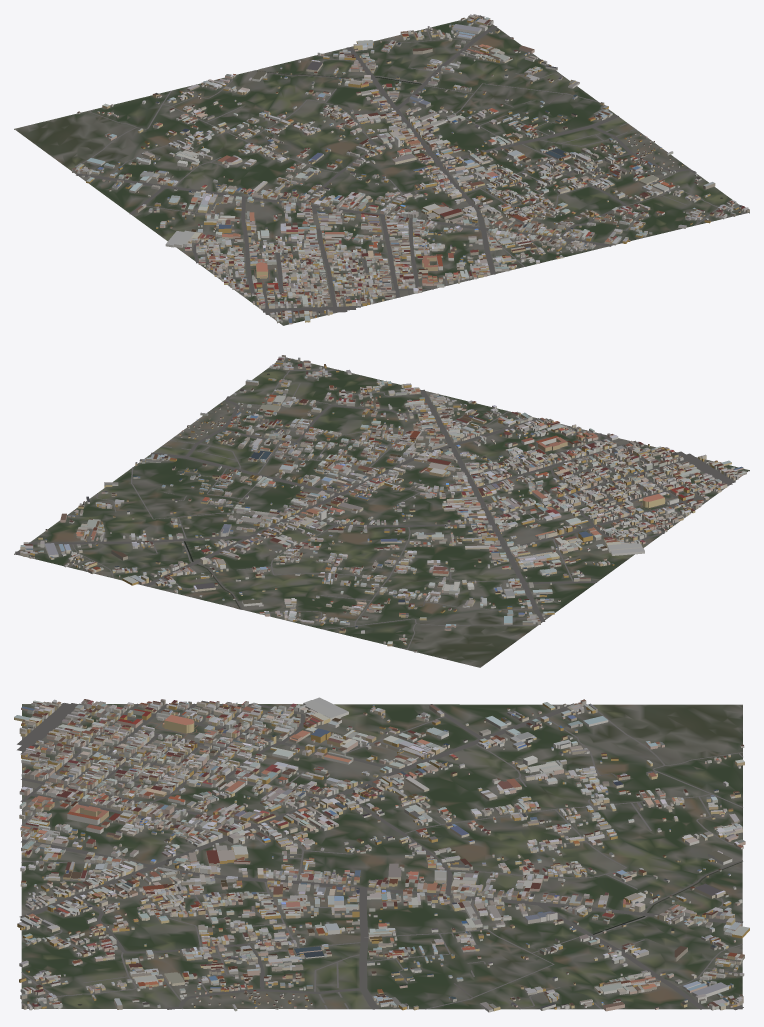
The picture shows the model from 3 angles, top to bottom: view 1: azimuth 30°, elevation 25°; view 2: azimuth 150°, elevation 25°; view 3: azimuth 270°, elevation 25°; orthographic projection. The views are drawn at different scales.
Visible parts, largest first — view 1: ground, buildings, roads; view 2: ground, buildings, roads; view 3: ground, buildings, roads.
Part boxes in pixels (x1,y1,x2,y2): ground: (14,15,749,325); buildings: (72,14,749,324); roads: (71,15,745,317); ground: (14,357,749,667); buildings: (20,355,746,652); roads: (15,358,735,649); ground: (21,704,742,1009); buildings: (14,697,749,1012); roads: (17,703,743,1010).
Size of the model in its own units: 1432 by 25.8 by 1430.
